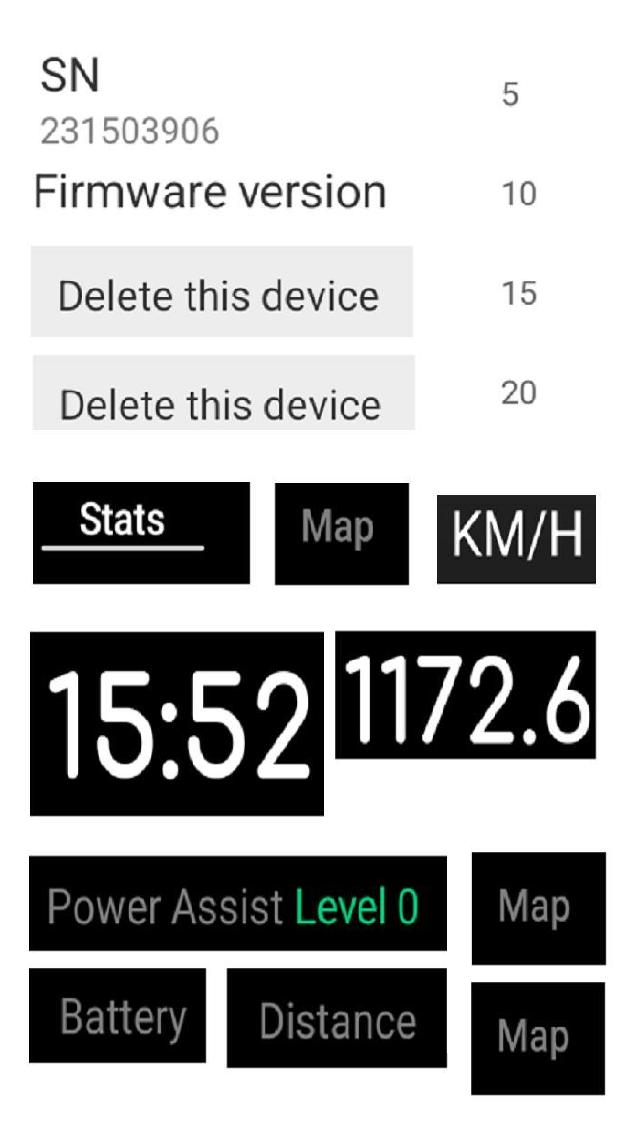Text: (42, 663, 314, 784), (346, 652, 594, 752), (44, 883, 422, 935), (26, 167, 396, 218), (53, 272, 385, 321), (53, 382, 384, 428), (255, 998, 422, 1048), (57, 992, 192, 1044), (40, 111, 226, 147), (495, 882, 577, 935), (69, 498, 170, 540), (490, 1016, 578, 1063), (295, 506, 377, 555), (452, 508, 526, 562), (35, 49, 104, 101), (486, 372, 548, 407), (548, 507, 585, 560), (492, 275, 548, 309), (500, 175, 546, 214), (486, 75, 530, 108)
